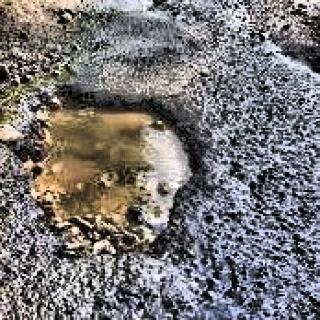pothole: (17, 63, 206, 253)
